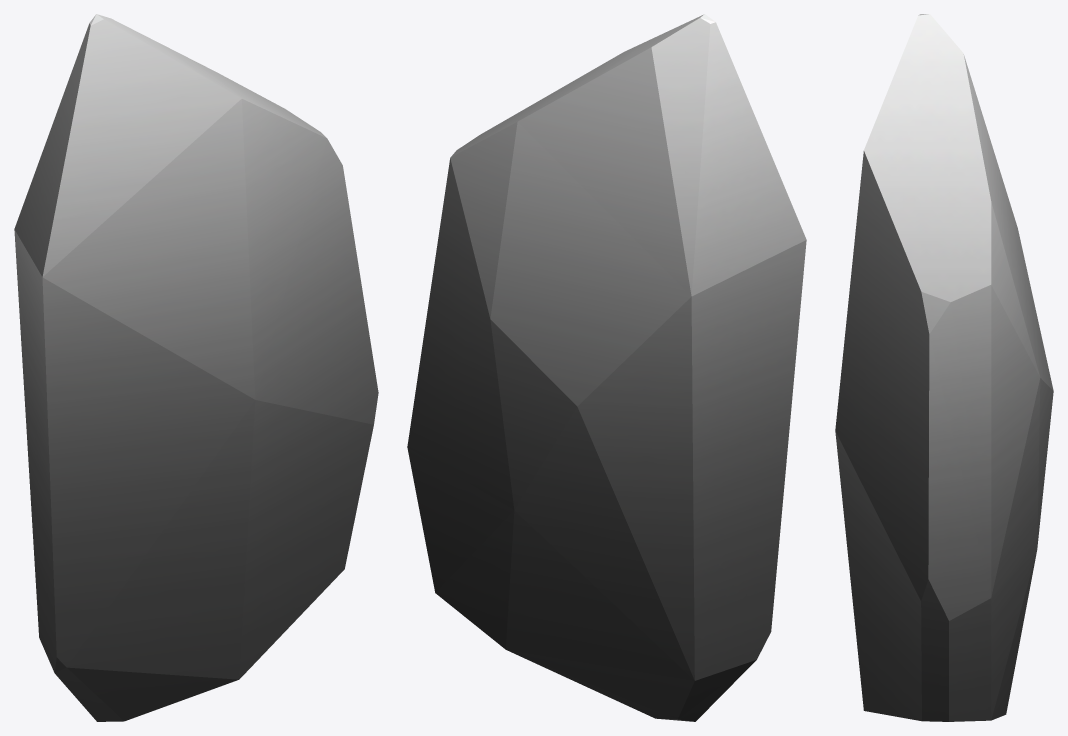
File: CrystalShard_G.fbx
The picture shows the model from 3 angles, left to right: view 1: azimuth 30°, elevation 25°; view 2: azimuth 150°, elevation 25°; view 3: azimuth 270°, elevation 25°; orthographic projection. The views are drawn at different scales.
Parts seen in each view (by area): view 1: CrystalShard_G; view 2: CrystalShard_G; view 3: CrystalShard_G.
Boxes of the visible parts, x1,y1,x2,y2 form: CrystalShard_G: [14, 14, 378, 721]; CrystalShard_G: [407, 14, 806, 721]; CrystalShard_G: [835, 14, 1053, 721].
Size of the model in its own units: 109 by 204 by 58.82.
Materials: 1 (1 with a texture image).
